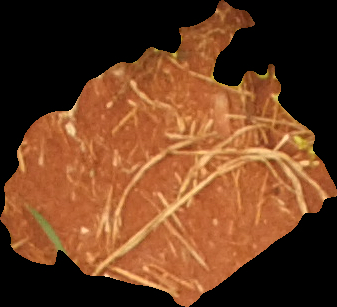soil: (3, 4, 335, 305)
